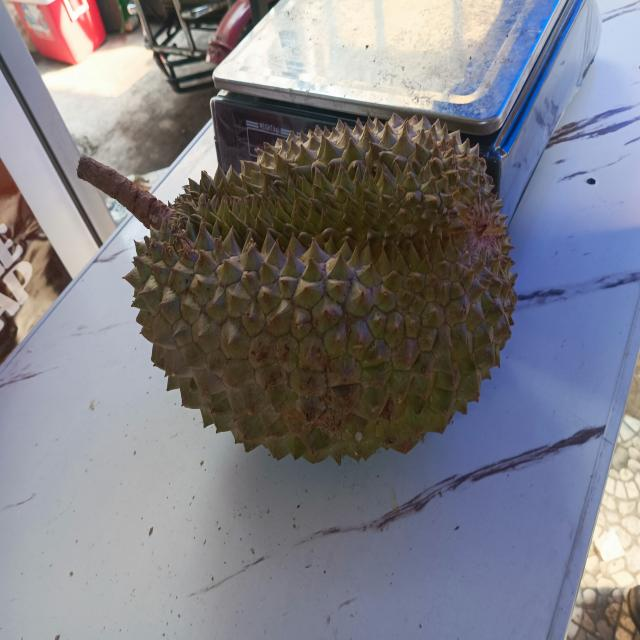mature: (112, 87, 526, 471)
